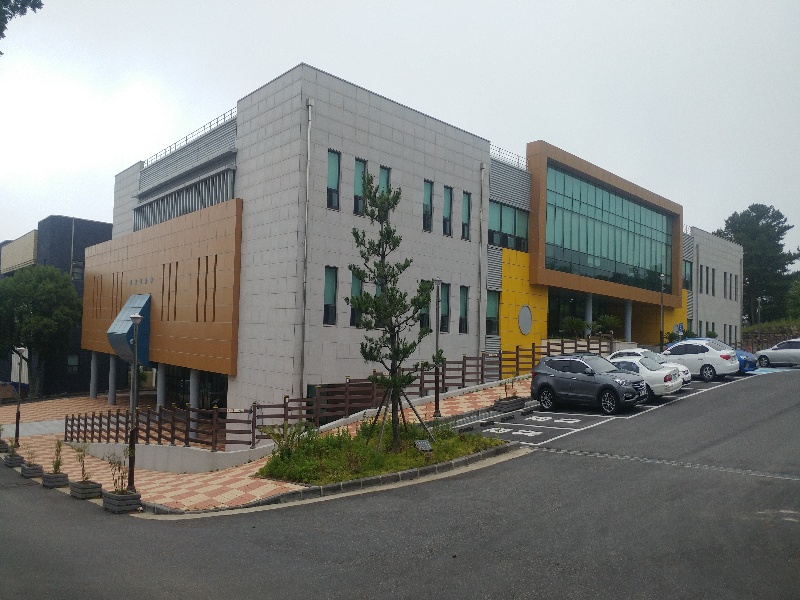Digital Library: (77, 85, 526, 385), (111, 165, 750, 340)
